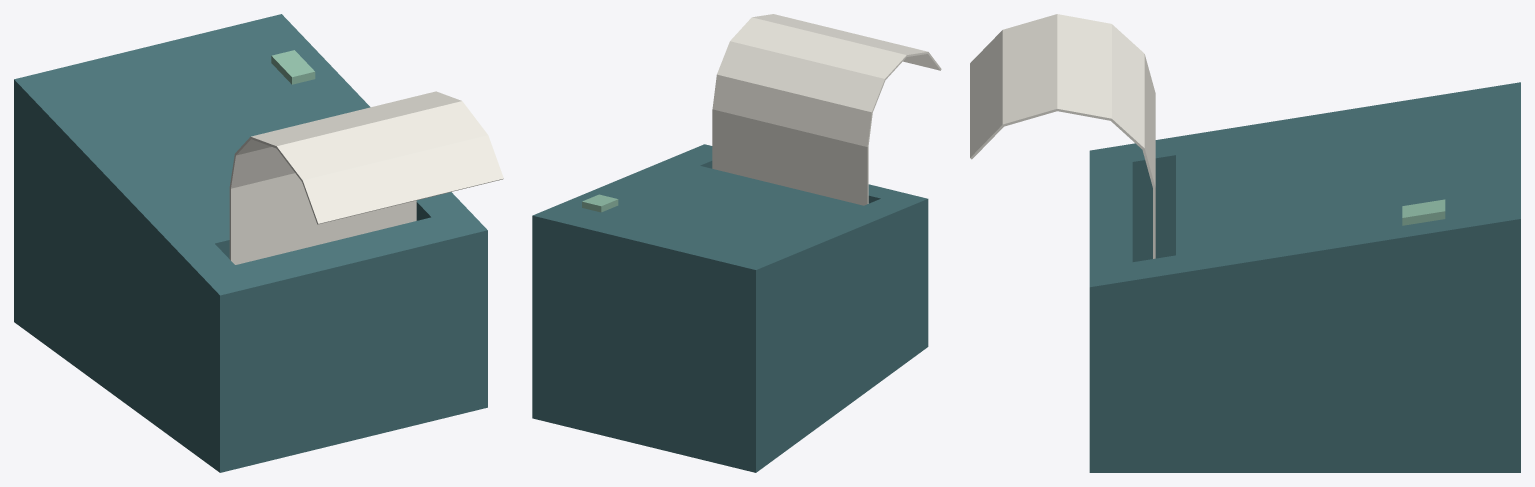
3 views of the same model, side by side, from view 1: azimuth 30°, elevation 25°; view 2: azimuth 150°, elevation 25°; view 3: azimuth 270°, elevation 25° (orthographic). The views are drawn at different scales.
Parts seen in each view (by area): view 1: IntegralSlopedPrinterHousingWithRealOutputSlot, SingleFixedCurledReceiptSheet, SmallFeedButton; view 2: IntegralSlopedPrinterHousingWithRealOutputSlot, SingleFixedCurledReceiptSheet, SmallFeedButton; view 3: IntegralSlopedPrinterHousingWithRealOutputSlot, SingleFixedCurledReceiptSheet, SmallFeedButton.
Boxes of the visible parts, x1,y1,x2,y2 form: IntegralSlopedPrinterHousingWithRealOutputSlot: [14, 14, 487, 472]; SingleFixedCurledReceiptSheet: [229, 91, 503, 264]; SmallFeedButton: [271, 50, 315, 84]; IntegralSlopedPrinterHousingWithRealOutputSlot: [532, 144, 928, 472]; SingleFixedCurledReceiptSheet: [712, 14, 941, 205]; SmallFeedButton: [582, 194, 618, 212]; IntegralSlopedPrinterHousingWithRealOutputSlot: [1089, 82, 1520, 472]; SingleFixedCurledReceiptSheet: [970, 14, 1155, 258]; SmallFeedButton: [1402, 199, 1445, 225].
Size of the model in its own units: 0.15 by 0.1756 by 0.2554.
